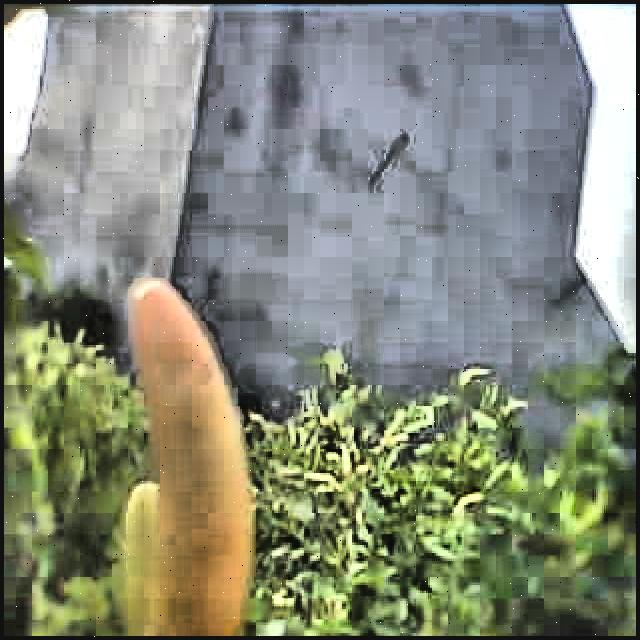Cabai: (127, 273, 260, 636)
